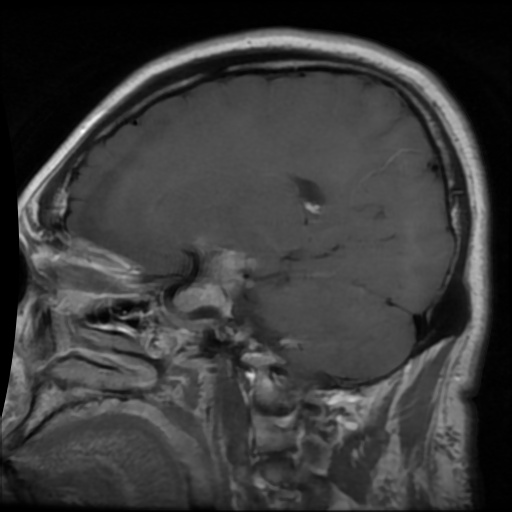pituitary: (169, 242, 259, 316)
